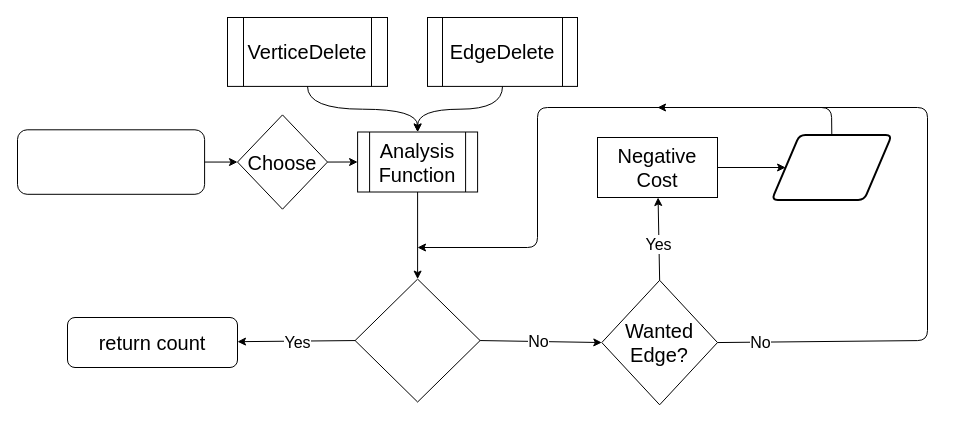
This 953x423 diagram has some shape labels left out. The shapes that lost their labels are listed below. From the top down, each one's centre as x and y in pixels, then its label:
the point at 110,161: Search and Delete
the point at 831,167: Count++
the point at 417,340: Last Element?
